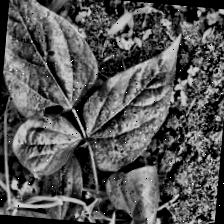ALS: (84, 36, 190, 174), (0, 0, 103, 116), (5, 111, 80, 178), (106, 160, 164, 224)
